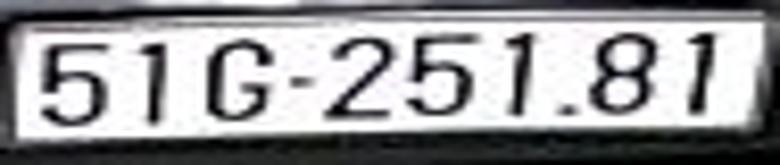-: (289, 77, 317, 89)
.: (557, 104, 572, 118)
1: (136, 43, 171, 125), (686, 29, 716, 117), (504, 29, 534, 114)
2: (326, 37, 393, 119)
5: (43, 39, 106, 127), (408, 34, 477, 114)
8: (594, 30, 654, 114)
G: (205, 36, 272, 121)
